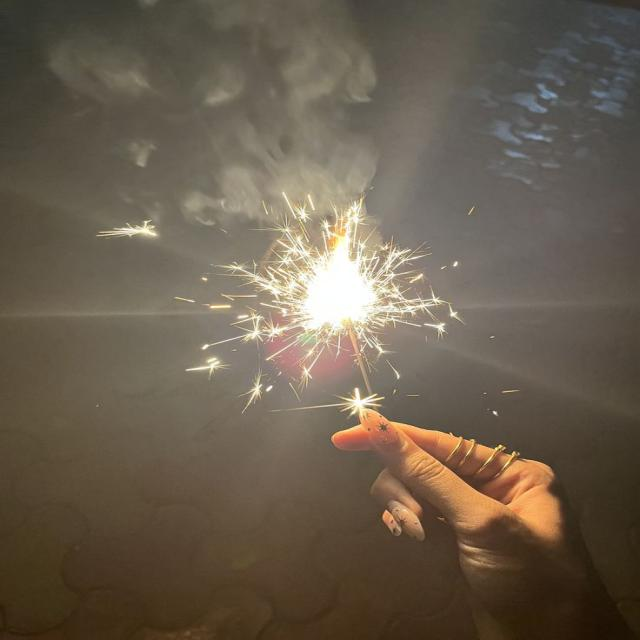fire: (294, 239, 376, 329)
